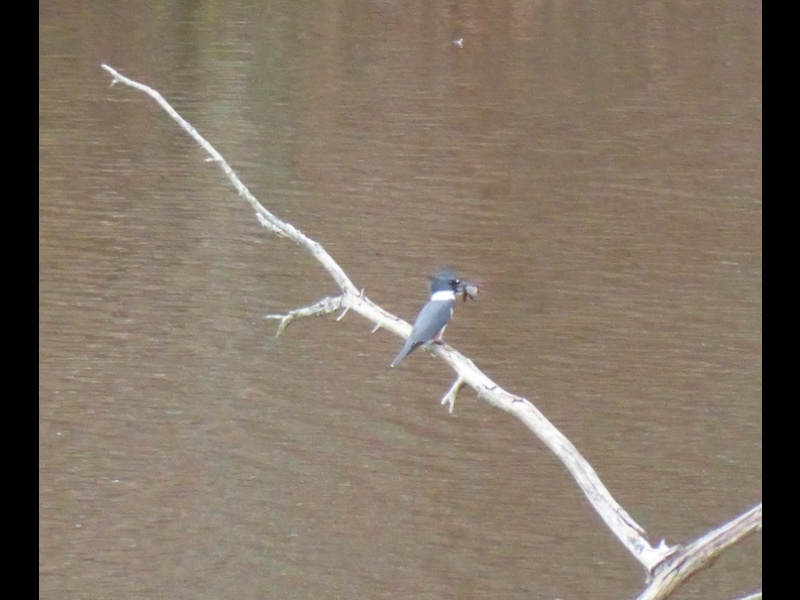kingfisher: (388, 266, 485, 373)
